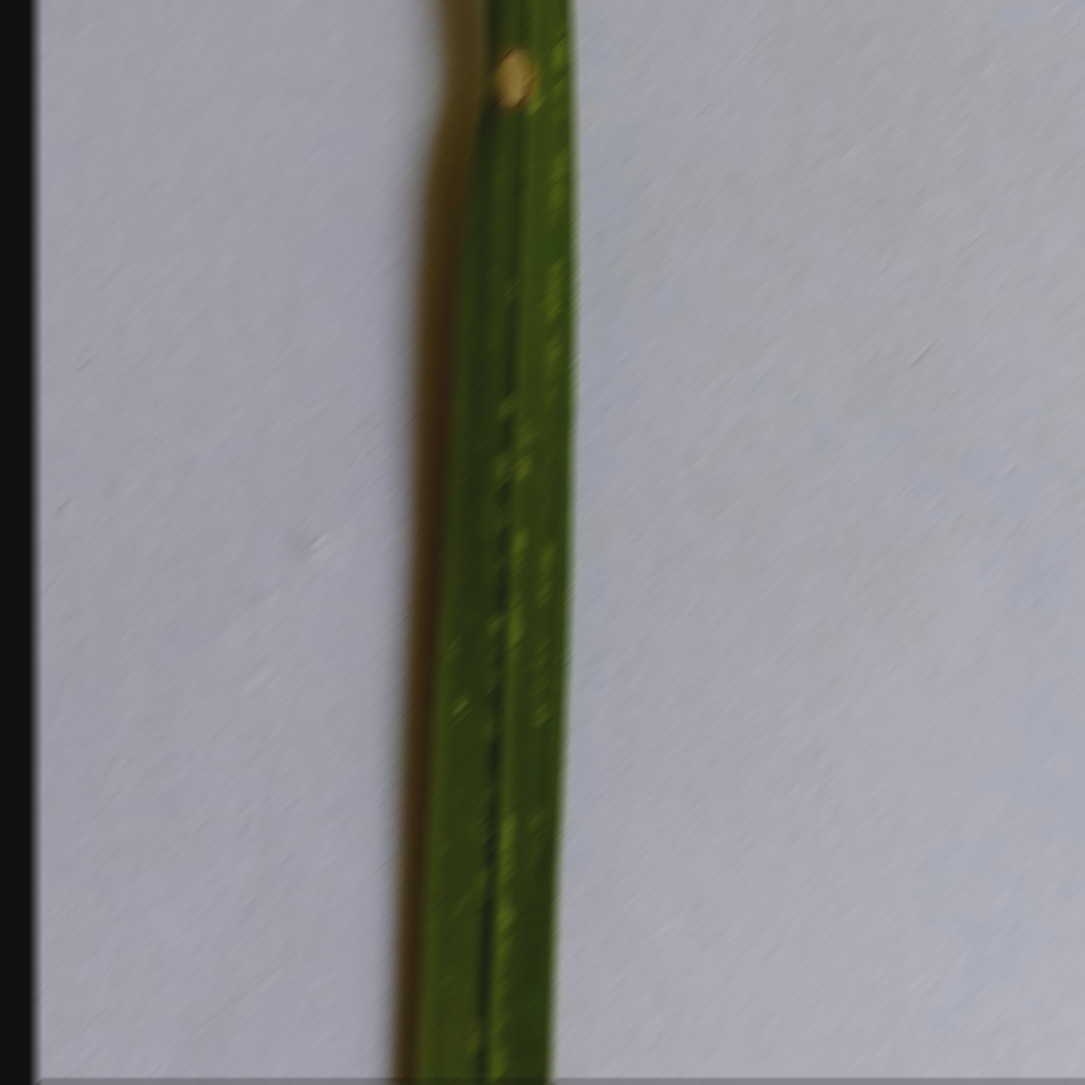Brown_Spot: (482, 37, 541, 114)
